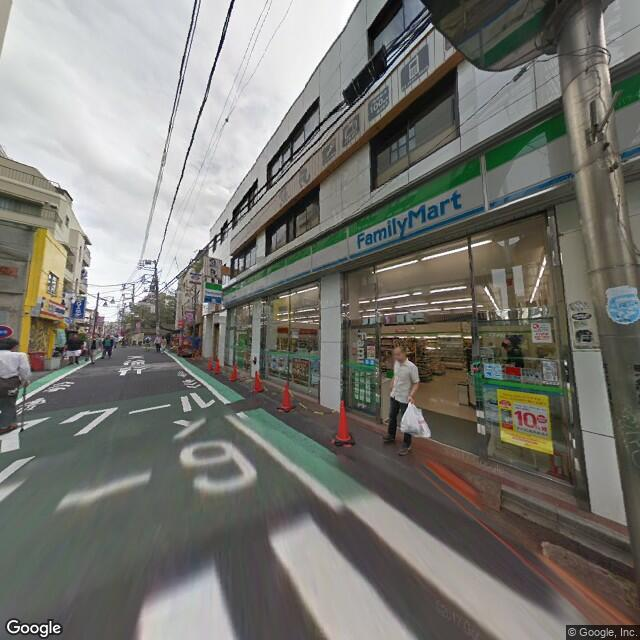family_mart: (221, 66, 638, 312), (354, 183, 471, 255), (199, 282, 223, 307)
